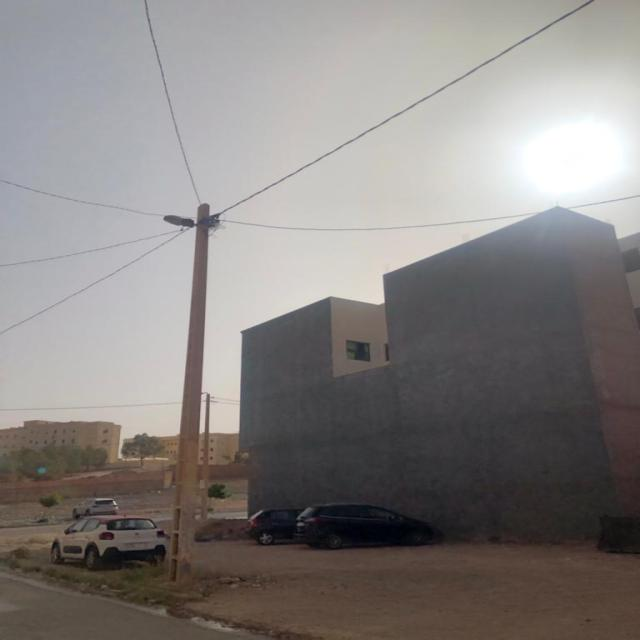Car: (294, 504, 442, 550), (49, 516, 168, 571)
Electric pole: (168, 203, 213, 585)
